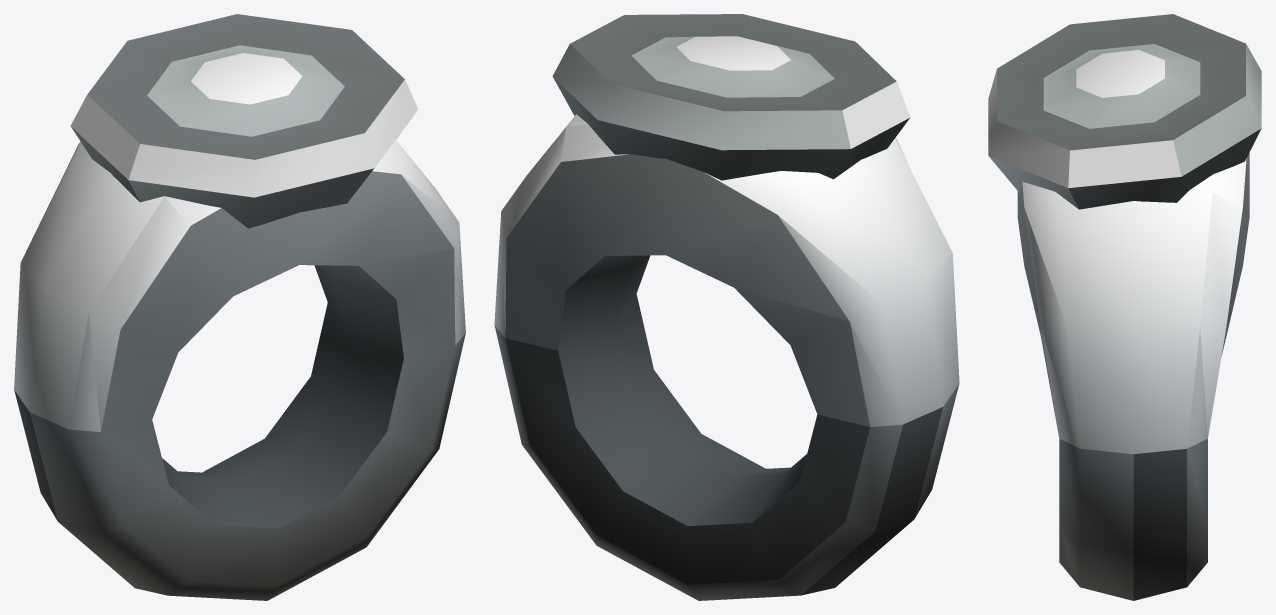
File: ring_silver_band.glb
The picture shows the model from 3 angles, left to right: view 1: azimuth 30°, elevation 25°; view 2: azimuth 150°, elevation 25°; view 3: azimuth 270°, elevation 25°; orthographic projection. The views are drawn at different scales.
Visible parts, largest first — view 1: Item; view 2: Item; view 3: Item.
Boxes of the visible parts, <box> form: Item: <box>14,14,465,600</box>; Item: <box>494,14,959,600</box>; Item: <box>988,14,1261,600</box>.
Bounding box in the file's own units: 0.52 × 0.62 × 0.3.
2 materials, 2 textured.
